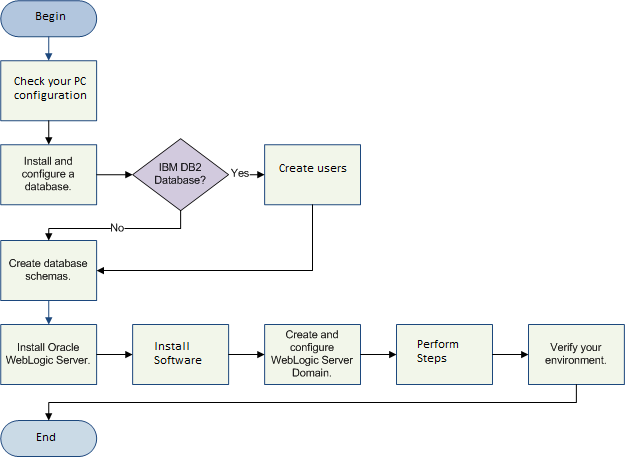arrow: (43, 383, 579, 421), (94, 203, 316, 275), (43, 210, 183, 241), (95, 349, 135, 360), (359, 349, 397, 360), (93, 170, 136, 179), (228, 349, 266, 359), (493, 349, 528, 358), (43, 33, 54, 61), (245, 170, 265, 179)
decision: (130, 136, 232, 212)
process: (394, 321, 495, 387), (262, 141, 363, 207), (130, 321, 231, 386), (262, 322, 363, 387), (526, 321, 625, 386), (1, 59, 100, 123), (1, 322, 100, 386), (1, 142, 99, 206), (1, 239, 99, 302)
terminator: (1, 418, 100, 457), (1, 1, 99, 39)
text: (270, 329, 356, 380), (4, 340, 91, 367), (6, 256, 89, 283), (12, 74, 88, 103), (20, 154, 77, 192), (543, 340, 609, 367), (153, 161, 209, 188), (152, 339, 203, 367), (415, 338, 460, 365), (277, 160, 348, 176), (33, 10, 68, 23), (35, 430, 57, 445), (229, 167, 250, 179), (109, 222, 126, 233)
